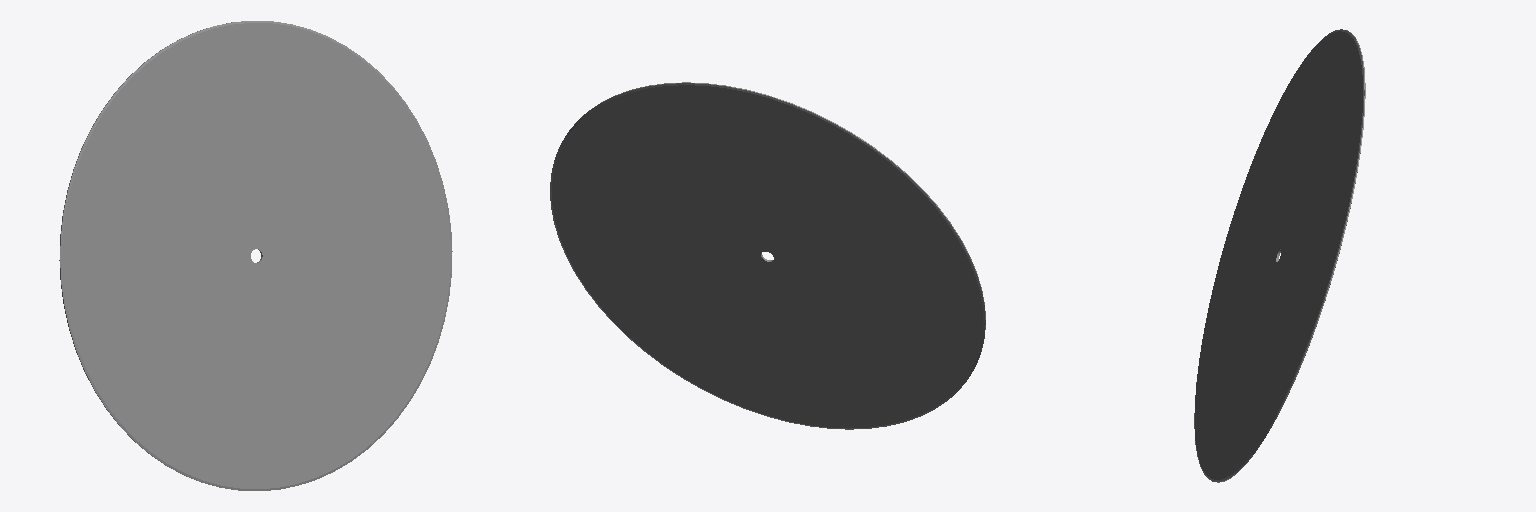
Rendered from VinylRecord3.obj.
The picture shows the model from 3 angles: view 1: azimuth 30°, elevation 25°; view 2: azimuth 150°, elevation 25°; view 3: azimuth 270°, elevation 25°; orthographic projection.
Visible parts, largest first — view 1: VinylRecord3; view 2: VinylRecord3; view 3: VinylRecord3.
Boxes of the visible parts, x1,y1,x2,y2 form: VinylRecord3: [59, 21, 452, 490]; VinylRecord3: [550, 82, 985, 429]; VinylRecord3: [1194, 29, 1365, 482].
Size of the model in its own units: 9.77 by 9.21 by 3.57.